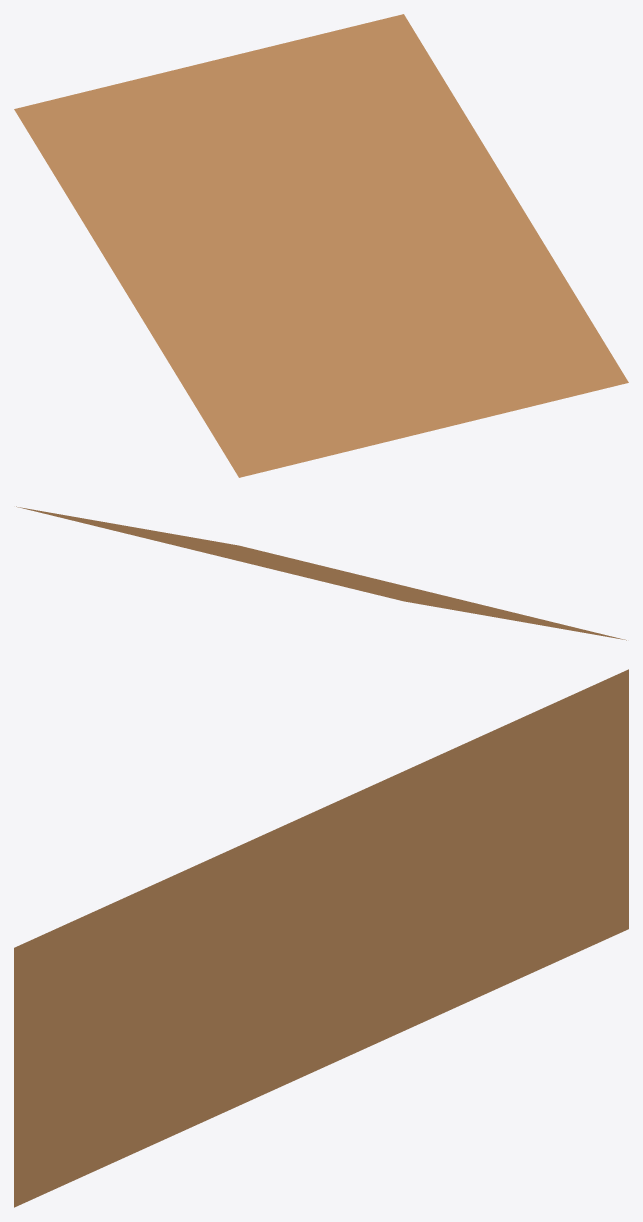
File: Cube_Dirt_Center_Slope01.glb
3 views of the same model, one above another, from view 1: azimuth 30°, elevation 25°; view 2: azimuth 150°, elevation 25°; view 3: azimuth 270°, elevation 25° (orthographic). The views are drawn at different scales.
Parts seen in each view (by area): view 1: Cube_Dirt_Center_Tall; view 2: Cube_Dirt_Center_Tall; view 3: Cube_Dirt_Center_Tall.
Part boxes in pixels (box(x1,y1,x2,y2)): Cube_Dirt_Center_Tall: box(14, 14, 628, 477); Cube_Dirt_Center_Tall: box(16, 506, 626, 640); Cube_Dirt_Center_Tall: box(14, 669, 628, 1207).
Bounding box in the file's own units: 2 × 1 × 2.
